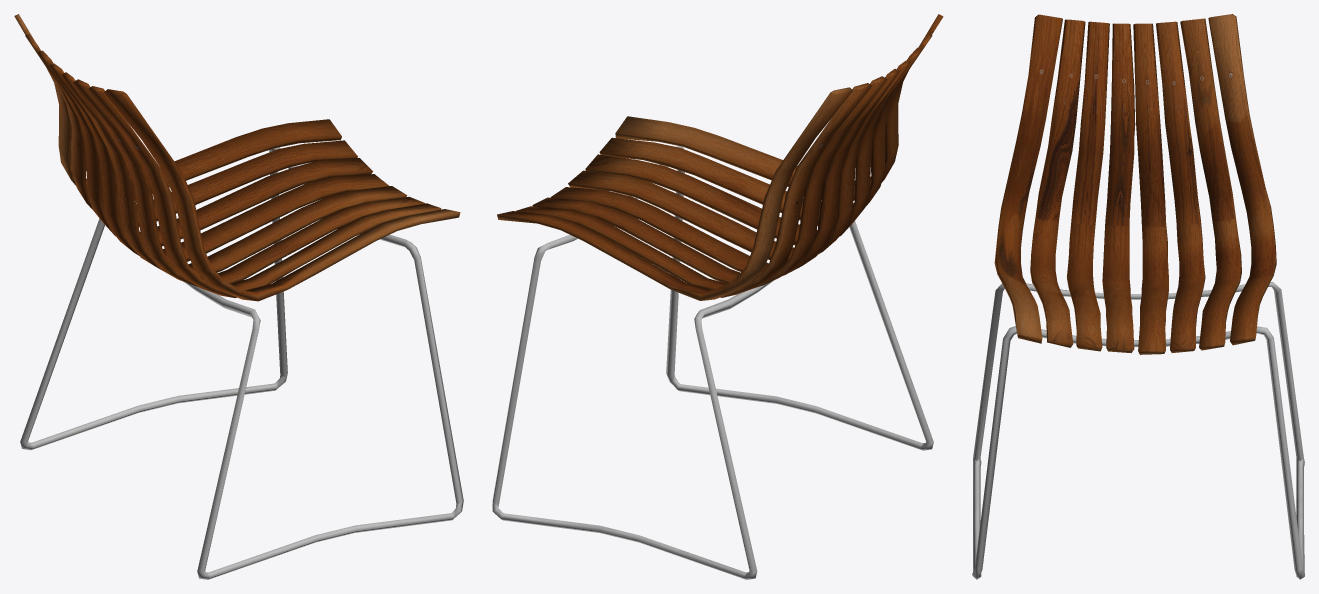
The model's file is wooden_v2.glb.
The picture shows the model from 3 angles, left to right: view 1: azimuth 30°, elevation 25°; view 2: azimuth 150°, elevation 25°; view 3: azimuth 270°, elevation 25°; orthographic projection. The views are drawn at different scales.
Visible parts, largest first — view 1: tripo_node_202cd1c4-5336-4cf1-8145-7ece8be1cb87; view 2: tripo_node_202cd1c4-5336-4cf1-8145-7ece8be1cb87; view 3: tripo_node_202cd1c4-5336-4cf1-8145-7ece8be1cb87.
Boxes of the visible parts, x1=… form: tripo_node_202cd1c4-5336-4cf1-8145-7ece8be1cb87: x1=14, y1=14, x2=463, y2=579; tripo_node_202cd1c4-5336-4cf1-8145-7ece8be1cb87: x1=492, y1=14, x2=943, y2=579; tripo_node_202cd1c4-5336-4cf1-8145-7ece8be1cb87: x1=972, y1=14, x2=1304, y2=579.
Size of the model in its own units: 0.7402 by 0.998 by 0.6934.
1 material, 1 textured.
